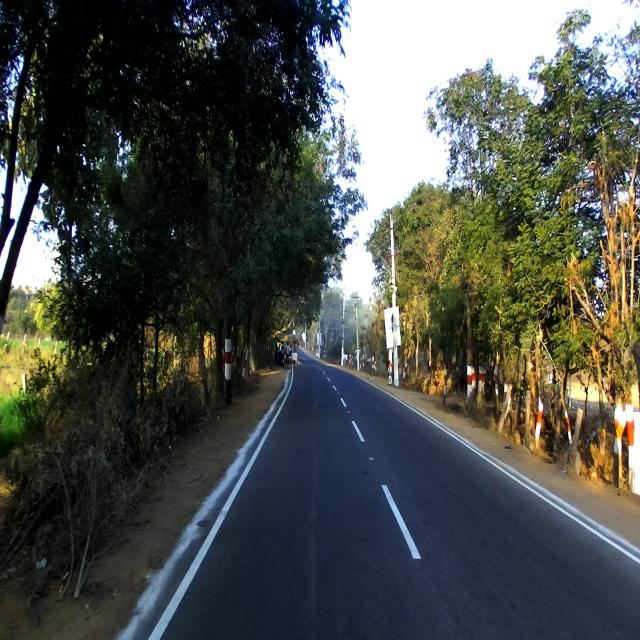tree ahead at: (193, 181, 257, 415)
